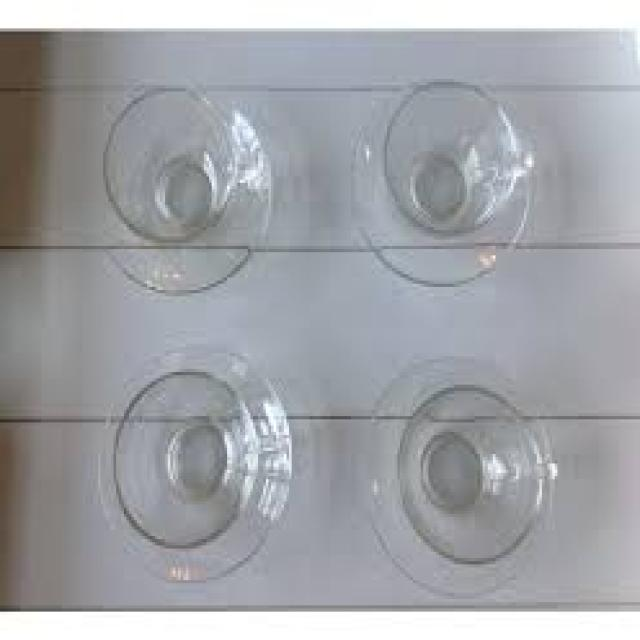glass: (90, 340, 289, 577), (359, 356, 555, 590), (351, 70, 532, 281), (93, 82, 268, 290), (398, 385, 547, 561), (111, 369, 258, 539), (380, 79, 527, 236), (103, 89, 235, 237)
